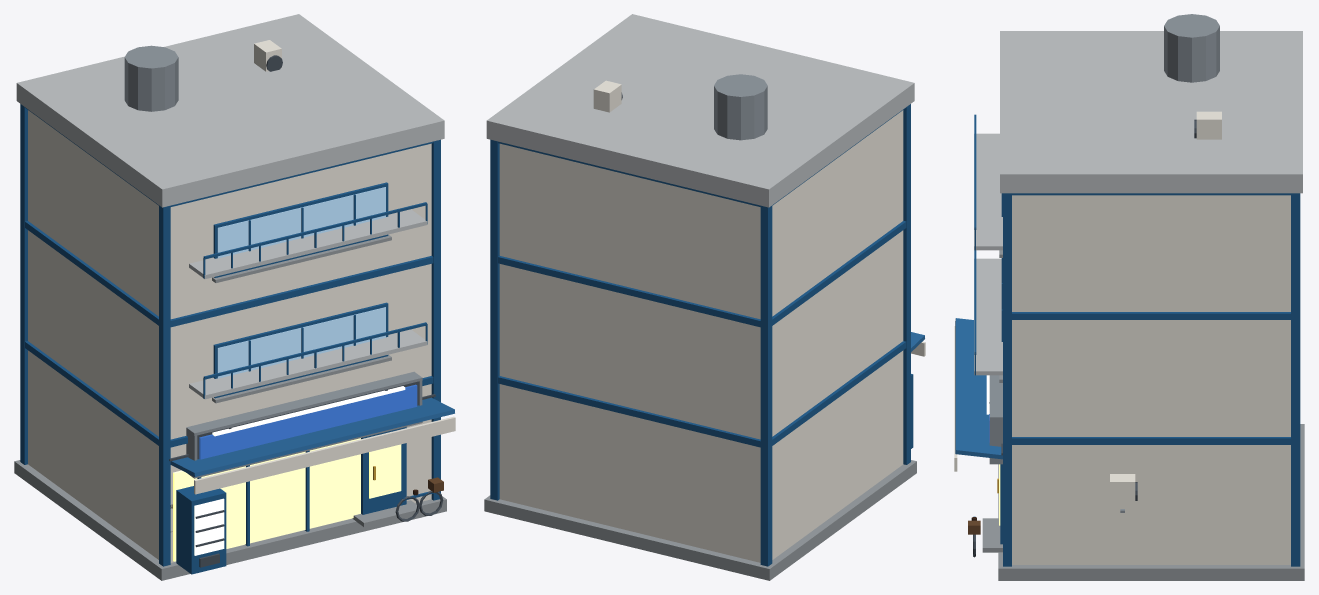
The model's file is shop_konbini_3f.glb.
The picture shows the model from 3 angles, left to right: view 1: azimuth 30°, elevation 25°; view 2: azimuth 150°, elevation 25°; view 3: azimuth 270°, elevation 25°; orthographic projection. The views are drawn at different scales.
Parts seen in each view (by area): view 1: body.002, parapet.002, shop_glass.002, base.002, awning.002, win_glass.006, win_glass.003, sign_face.002, post.008, awning_lip.002, balcony_slab.006, balcony_slab.003 (+20 smaller); view 2: body.002, parapet.002, base.002, post.009, beam.006, beam.005, post.011, water_tank.002, post.008, beam.010, ac_body.006; view 3: body.002, parapet.002, base.002, awning.002, post.011, water_tank.002, post.010, balcony_slab.003, balcony_slab.006, beam.005, beam.006, ac_body.004 (+4 smaller).
Boxes of the visible parts, x1,y1,x2,y2 form: body.002: (28, 110, 431, 562); parapet.002: (16, 14, 444, 207); shop_glass.002: (173, 438, 360, 561); base.002: (14, 460, 446, 580); awning.002: (170, 397, 454, 476); win_glass.006: (217, 187, 385, 258); win_glass.003: (217, 307, 385, 378); sign_face.002: (199, 384, 417, 459); post.008: (159, 205, 170, 566); awning_lip.002: (194, 416, 455, 494); balcony_slab.006: (189, 209, 427, 278); balcony_slab.003: (189, 329, 427, 399); body.002: (499, 110, 903, 562); parapet.002: (486, 14, 914, 207); base.002: (484, 460, 916, 580); post.009: (760, 205, 772, 566); beam.006: (498, 221, 906, 327); beam.005: (498, 341, 906, 447); post.011: (490, 139, 499, 500); water_tank.002: (714, 74, 767, 140); post.008: (903, 104, 910, 464); beam.010: (498, 107, 906, 206); ac_body.006: (593, 80, 621, 112); body.002: (1012, 195, 1290, 564); parapet.002: (1000, 31, 1302, 193); base.002: (998, 424, 1304, 580); awning.002: (955, 318, 1002, 459); post.011: (1291, 193, 1300, 566); water_tank.002: (1164, 14, 1219, 82); post.010: (1003, 193, 1011, 566); balcony_slab.003: (974, 258, 1002, 375); balcony_slab.006: (974, 133, 1002, 250); beam.005: (1012, 437, 1290, 444); beam.006: (1012, 312, 1290, 319); ac_body.004: (1110, 474, 1135, 508).
Size of the model in its own units: 7.84 by 11.05 by 7.75.
